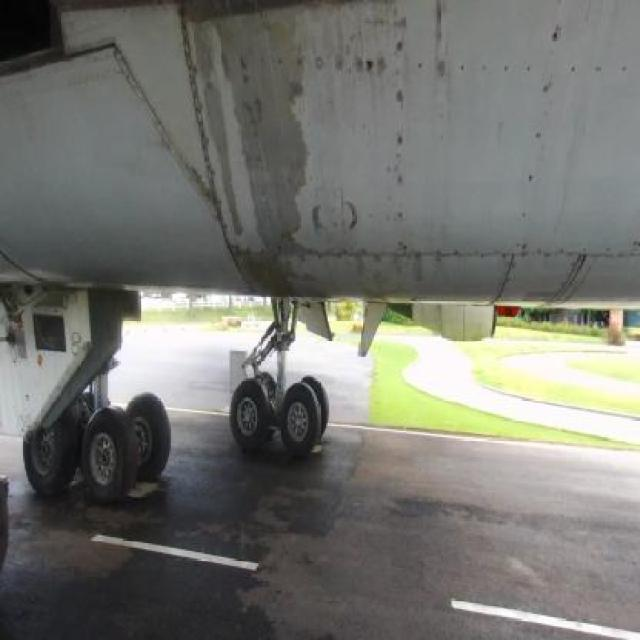Missing-Rivet: (283, 243, 515, 277), (390, 8, 422, 243), (238, 41, 399, 87), (423, 49, 635, 80), (518, 82, 556, 220), (519, 241, 612, 262), (436, 54, 450, 80)
Rust: (428, 4, 466, 41)
Scartch: (188, 2, 329, 307), (307, 190, 382, 241)
